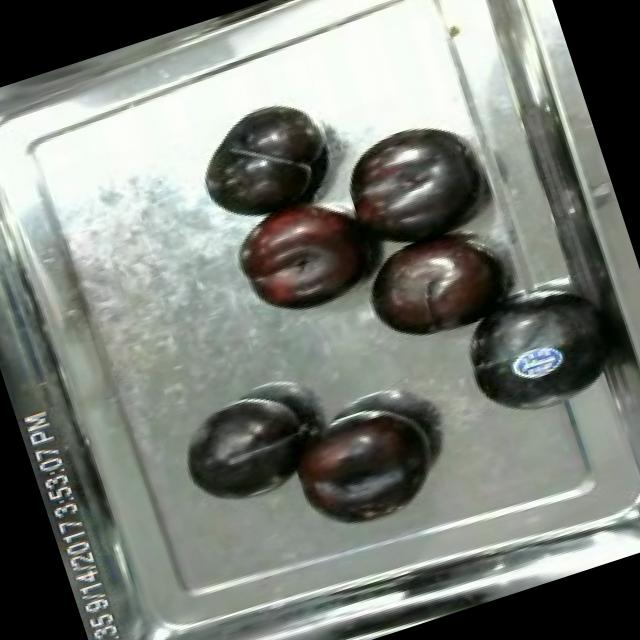Fruit: (442, 271, 632, 436), (323, 107, 502, 269), (346, 208, 526, 365), (218, 178, 391, 333), (182, 88, 345, 238), (276, 394, 444, 530), (169, 382, 329, 519)
